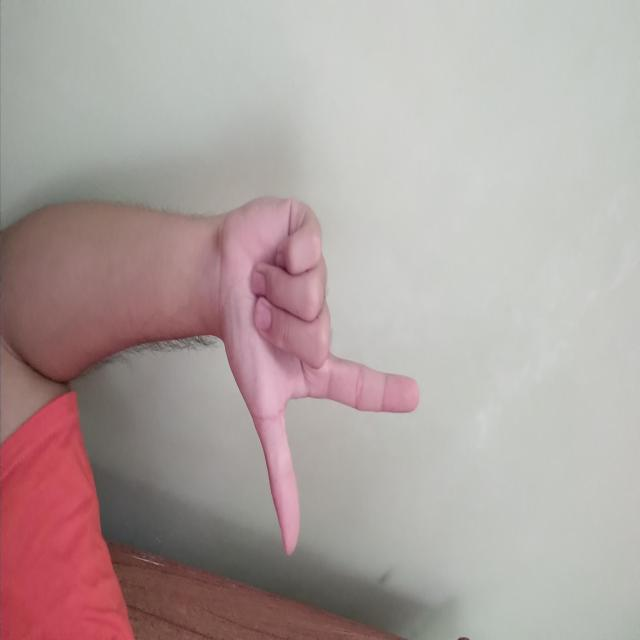L: (194, 219, 560, 422)
